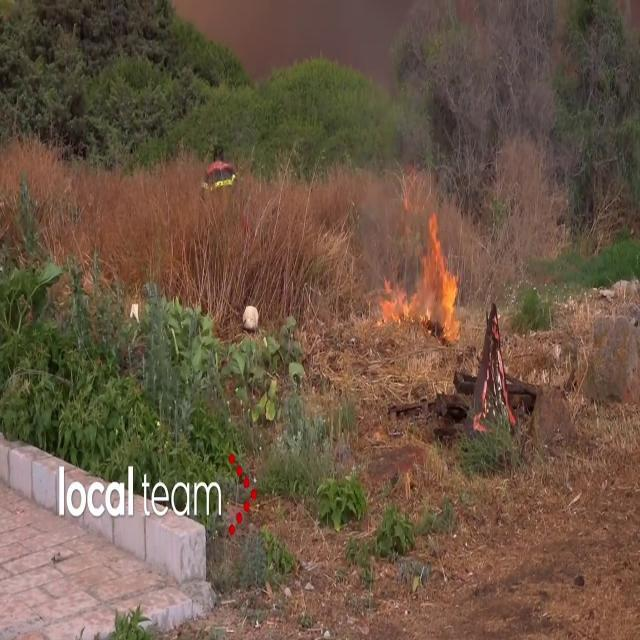Fire: (378, 200, 462, 338)
